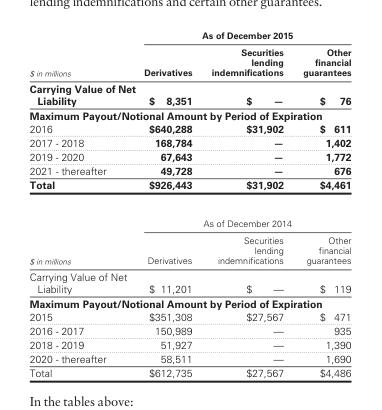table: (28, 29, 350, 379)
table column: (28, 29, 139, 379), (201, 29, 292, 379), (139, 29, 201, 379), (292, 29, 350, 379)
table column header: (28, 29, 350, 79)
table projected row header: (28, 108, 350, 121), (28, 296, 350, 309)
table row: (28, 43, 350, 79), (28, 231, 350, 267), (28, 79, 350, 108), (28, 267, 350, 296), (28, 177, 350, 204), (28, 204, 350, 231), (28, 29, 350, 43), (28, 121, 350, 135), (28, 135, 350, 149), (28, 149, 350, 163), (28, 163, 350, 177), (28, 309, 350, 323), (28, 323, 350, 337), (28, 337, 350, 351), (28, 351, 350, 365), (28, 365, 350, 379), (28, 108, 350, 121), (28, 296, 350, 309)
table spanning cell: (139, 204, 350, 231), (28, 29, 139, 79), (139, 29, 350, 43)
